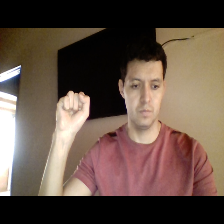9D: (52, 88, 92, 135)
